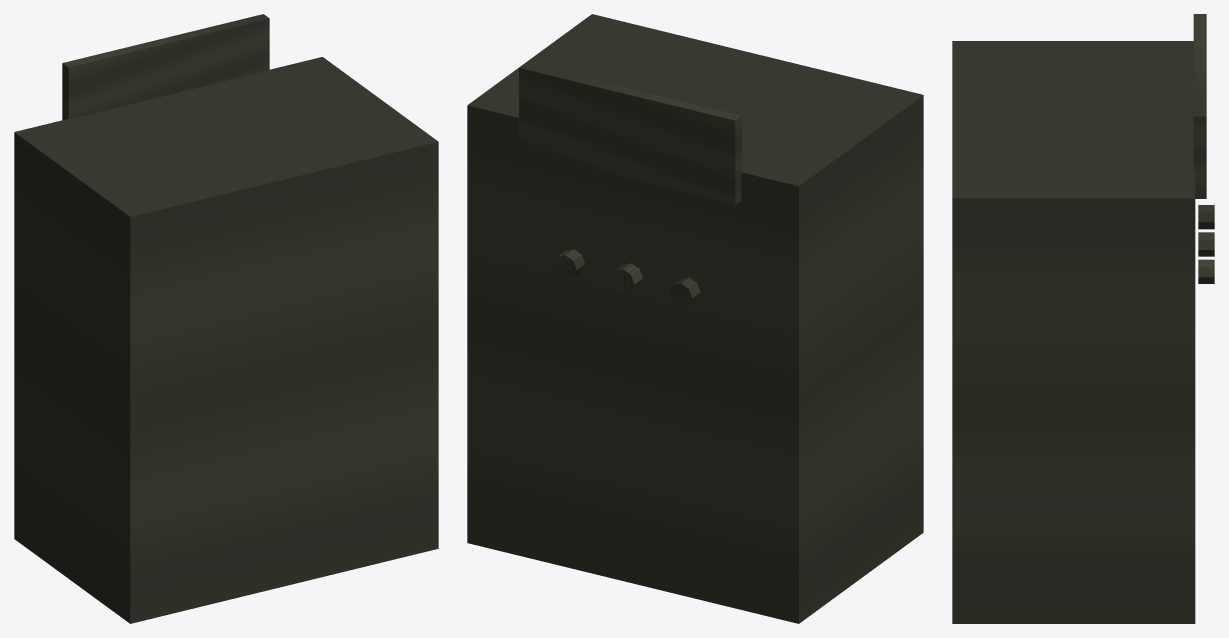
File: env_bldg_cellblock_inner_a.glb
The picture shows the model from 3 angles, left to right: view 1: azimuth 30°, elevation 25°; view 2: azimuth 150°, elevation 25°; view 3: azimuth 270°, elevation 25°; orthographic projection. The views are drawn at different scales.
Parts seen in each view (by area): view 1: env_bldg_cellblock_inner_a; view 2: env_bldg_cellblock_inner_a; view 3: env_bldg_cellblock_inner_a.
Part boxes in pixels (x1=…): env_bldg_cellblock_inner_a: x1=14, y1=14, x2=438, y2=623; env_bldg_cellblock_inner_a: x1=467, y1=14, x2=923, y2=623; env_bldg_cellblock_inner_a: x1=952, y1=14, x2=1214, y2=623.
Size of the model in its own units: 1.15 by 1.66 by 0.81.
Materials: 1 (1 with a texture image).
